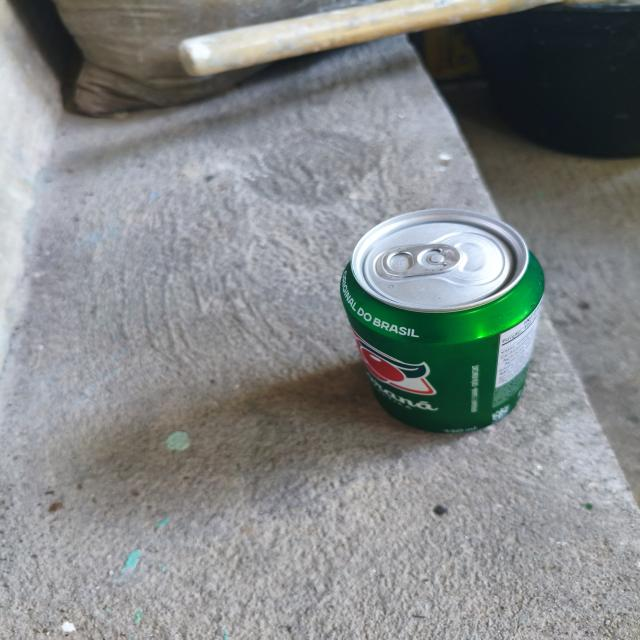Guarana: (328, 207, 568, 441)
